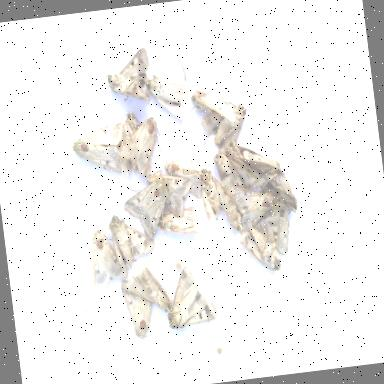abw: (162, 263, 220, 331), (82, 225, 130, 296), (101, 46, 154, 108), (238, 142, 306, 190), (106, 211, 158, 273), (121, 178, 172, 240), (122, 261, 174, 317), (180, 78, 237, 128), (200, 101, 252, 154), (121, 277, 164, 341), (144, 68, 193, 124), (146, 170, 198, 222), (254, 198, 293, 258), (238, 224, 282, 276), (200, 164, 238, 224), (164, 154, 210, 202), (234, 182, 277, 232), (115, 110, 146, 177), (270, 164, 308, 216), (213, 175, 244, 233), (224, 142, 262, 188), (155, 206, 203, 242), (213, 151, 246, 201)
